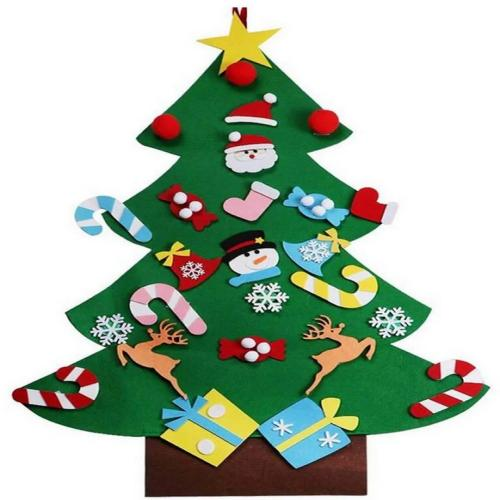Santa: (219, 128, 286, 176)
